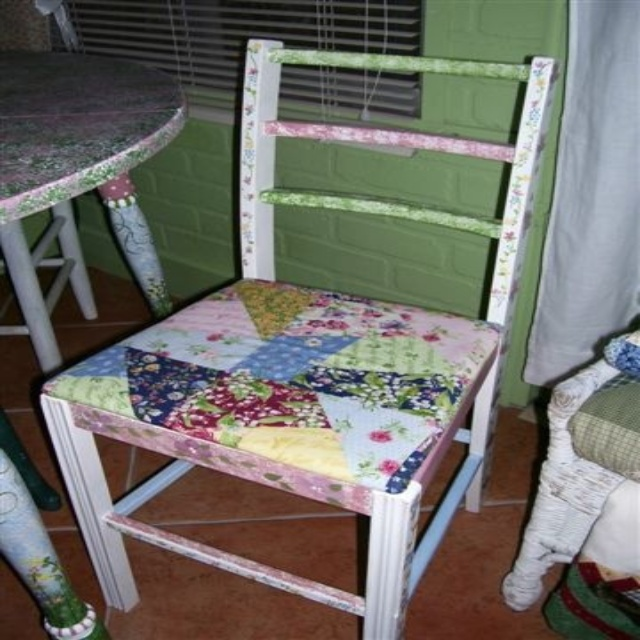obstacle: (41, 40, 553, 639)
